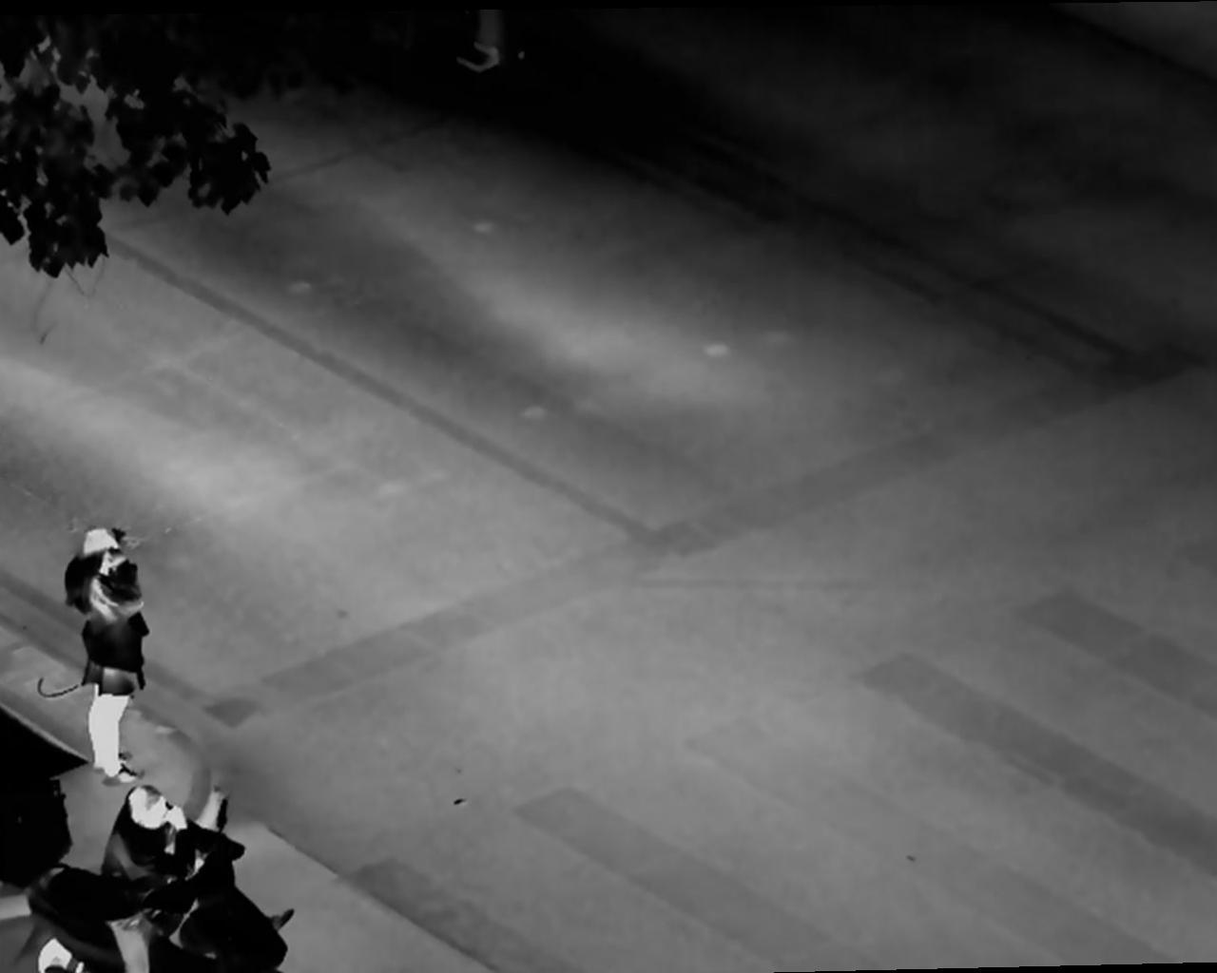person: (64, 517, 156, 791), (89, 783, 200, 965)
